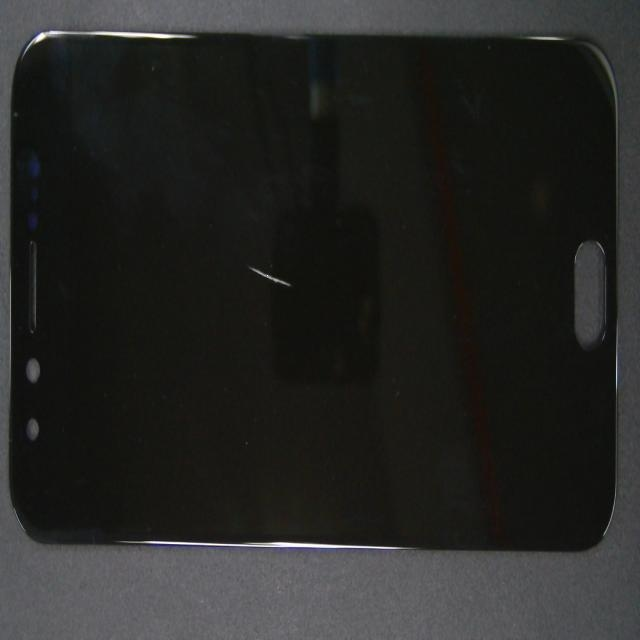scratch: (156, 148, 474, 444)
